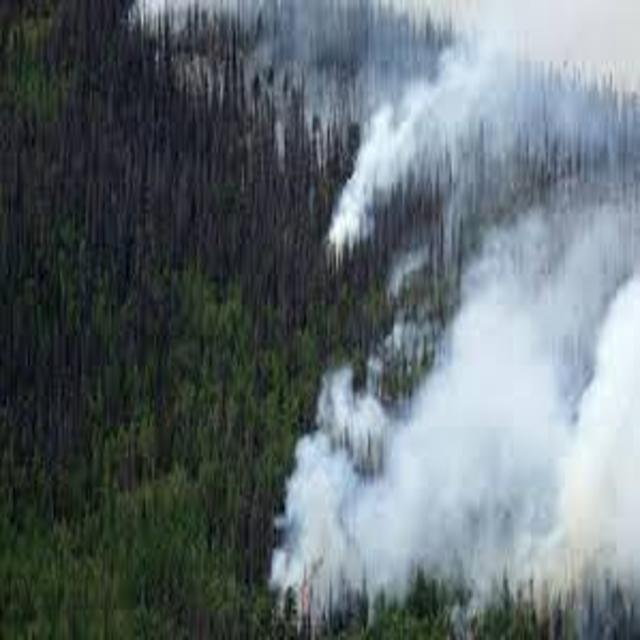Smoke: (269, 356, 640, 631), (302, 55, 640, 356), (134, 0, 640, 116)
